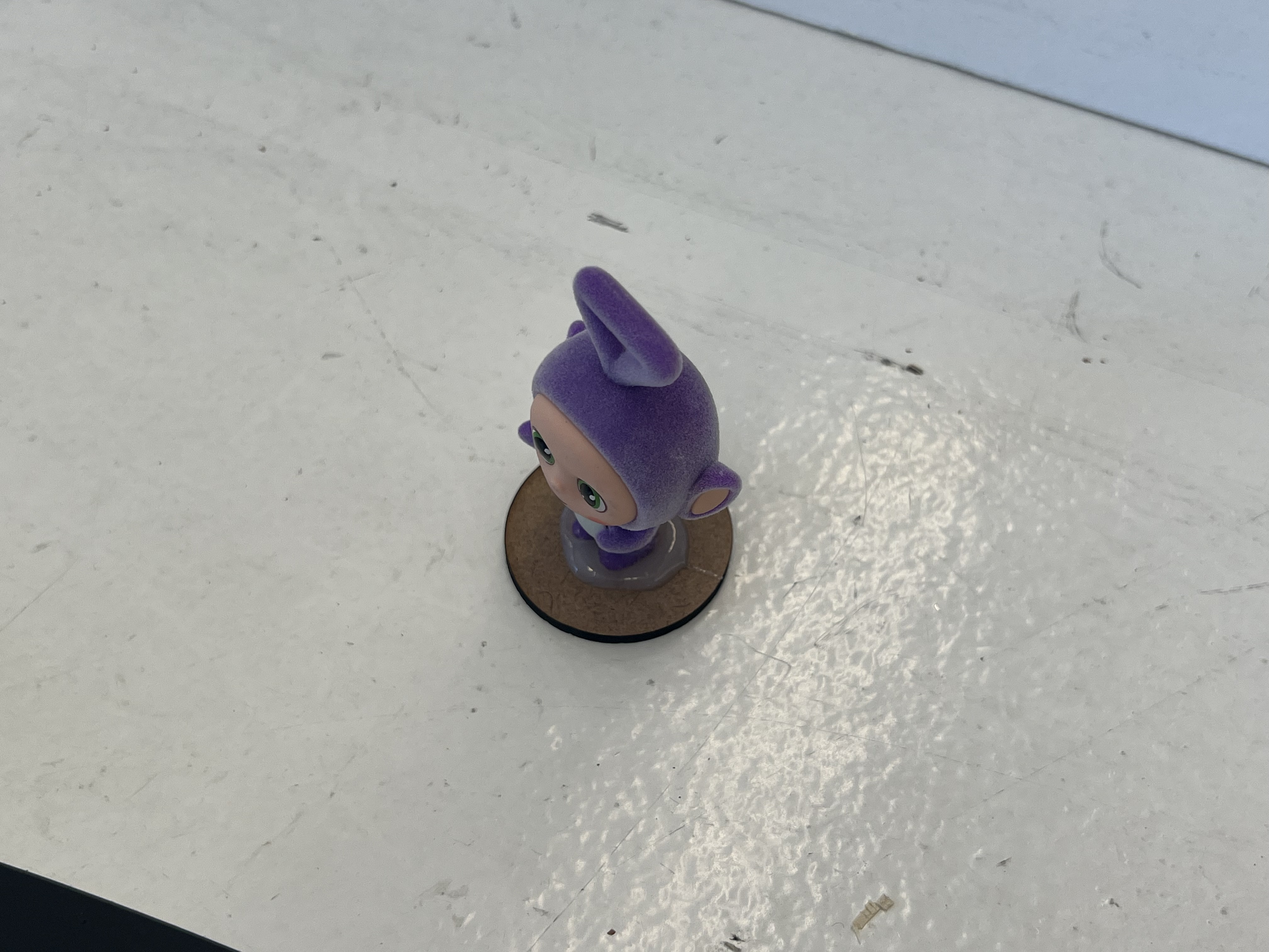teletubby: (518, 267, 741, 570)
